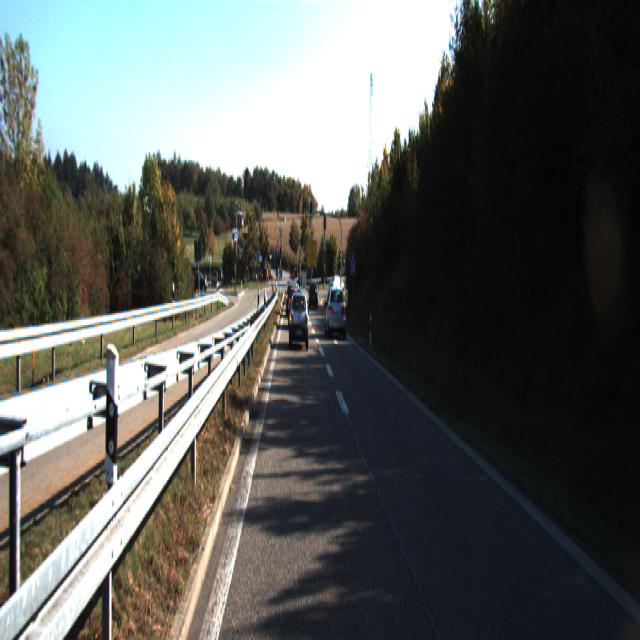Car: (289, 289, 309, 348), (325, 281, 346, 335), (286, 288, 302, 330), (307, 282, 316, 309)
